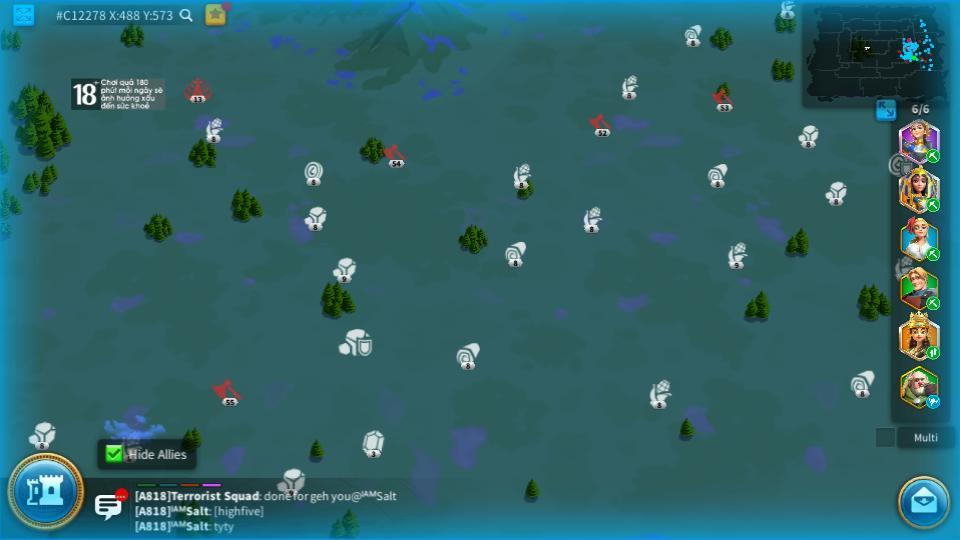gem-z-out: (360, 430, 385, 457)
march_idle: (925, 396, 942, 408)
march_marching: (925, 347, 941, 359)
